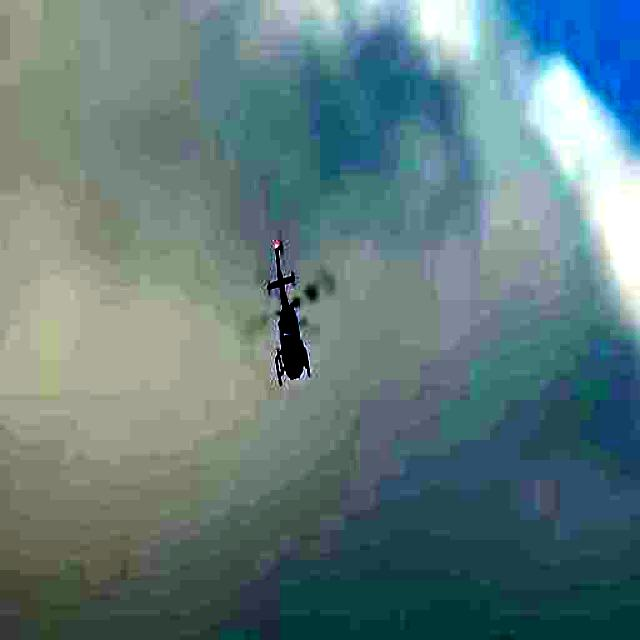drone: (260, 235, 321, 408)
